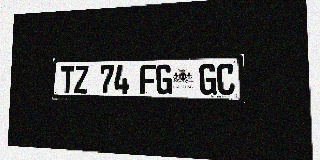4: (114, 65, 129, 94)
7: (99, 65, 114, 94)
C: (217, 63, 235, 95)
F: (140, 65, 155, 94)
G: (199, 64, 217, 95), (156, 64, 172, 95)
T: (60, 66, 75, 93)
Z: (74, 66, 89, 94)
